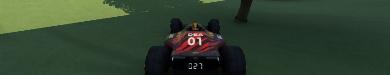Car: (143, 17, 246, 74)
grass: (0, 0, 389, 74)
obstacles-Borders: (233, 0, 253, 22)
